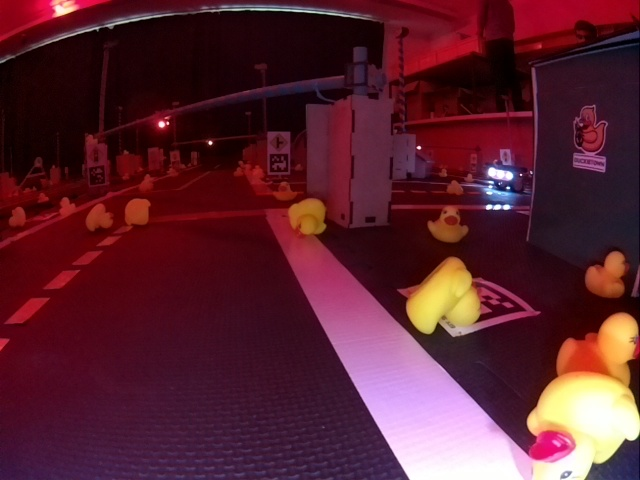Duckie: (528, 374, 630, 470), (556, 314, 631, 387), (408, 259, 478, 331), (585, 252, 625, 296), (428, 207, 468, 242), (290, 198, 326, 235), (125, 199, 150, 225), (86, 206, 111, 230), (274, 184, 294, 200), (11, 209, 24, 225), (448, 180, 462, 194), (60, 198, 73, 212)
Duckiebot: (487, 165, 523, 191)
Intersection sign: (269, 133, 288, 152)
QR code: (400, 279, 537, 335), (269, 155, 289, 173), (89, 166, 106, 185)
Signal sign: (89, 145, 105, 163)
